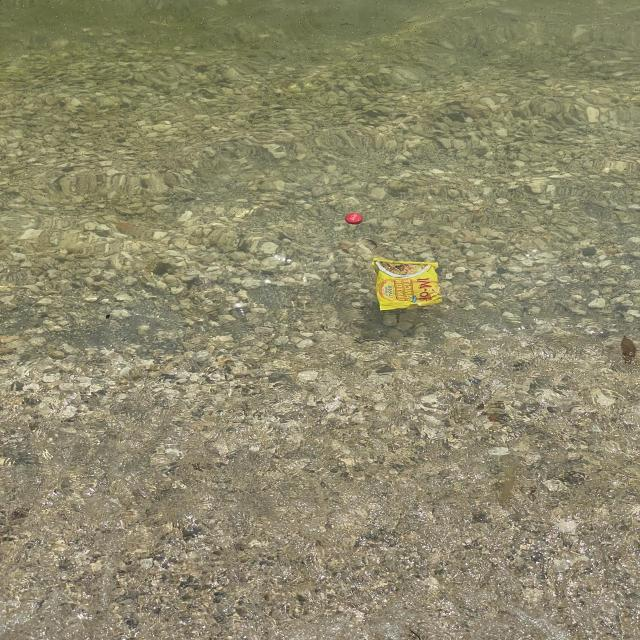plastic_waste: (372, 258, 445, 312), (346, 214, 364, 226)
